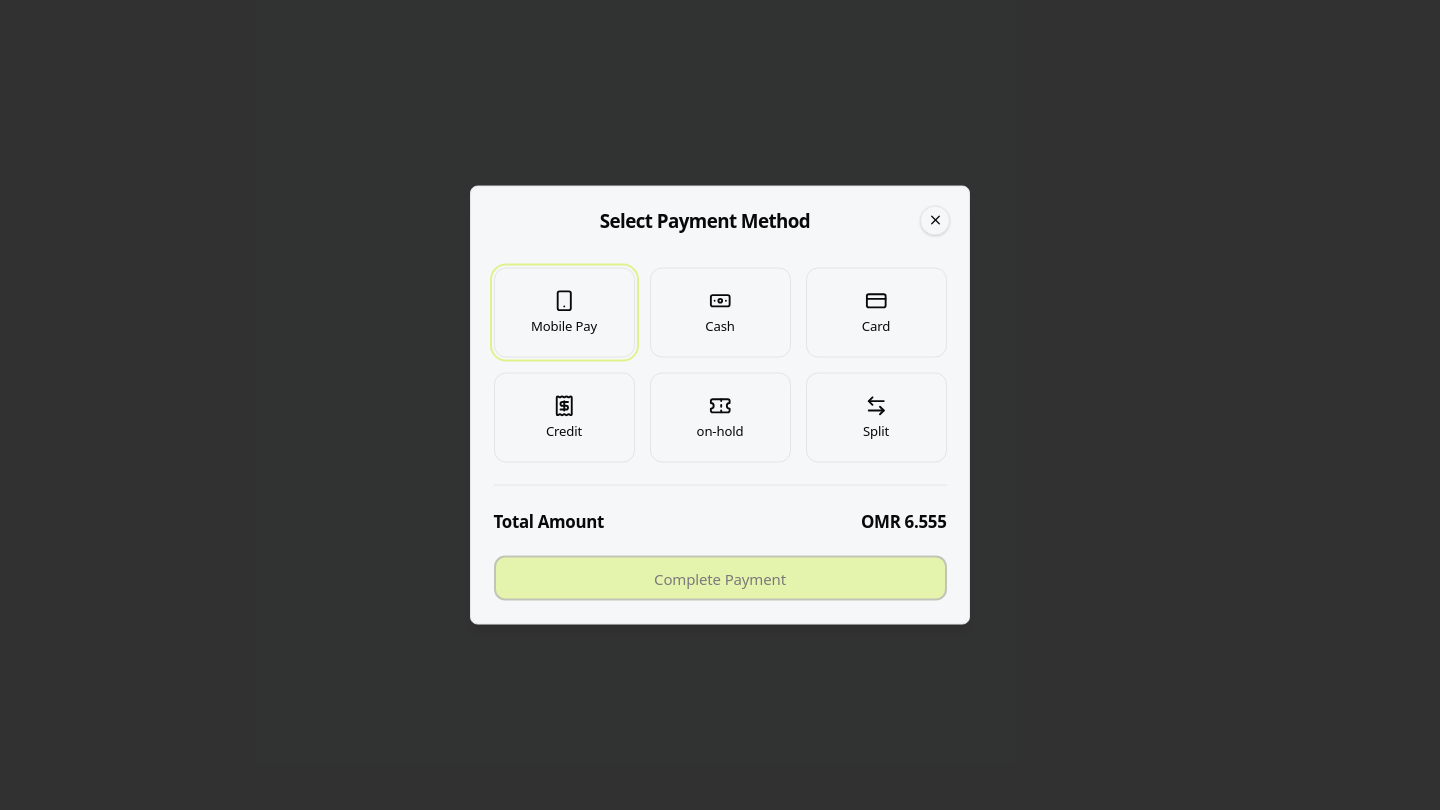
Test: CheckoutModal - cash/card split › Split evenly always sums exactly to the total (no rounding residue)
Click the button "Split": (876, 417) [806,372,946,462]
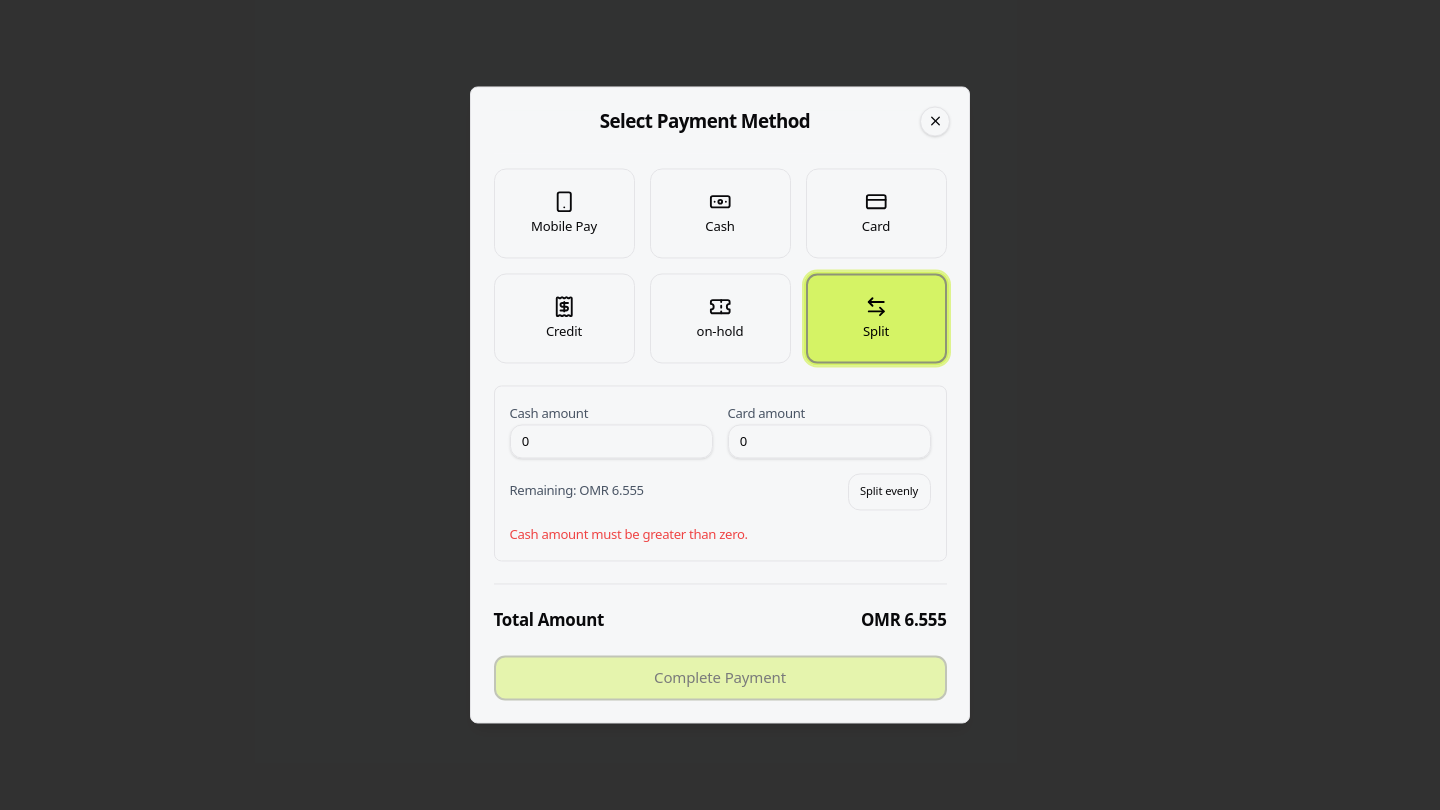
Click the button "Split evenly": (889, 492) [848,473,930,510]
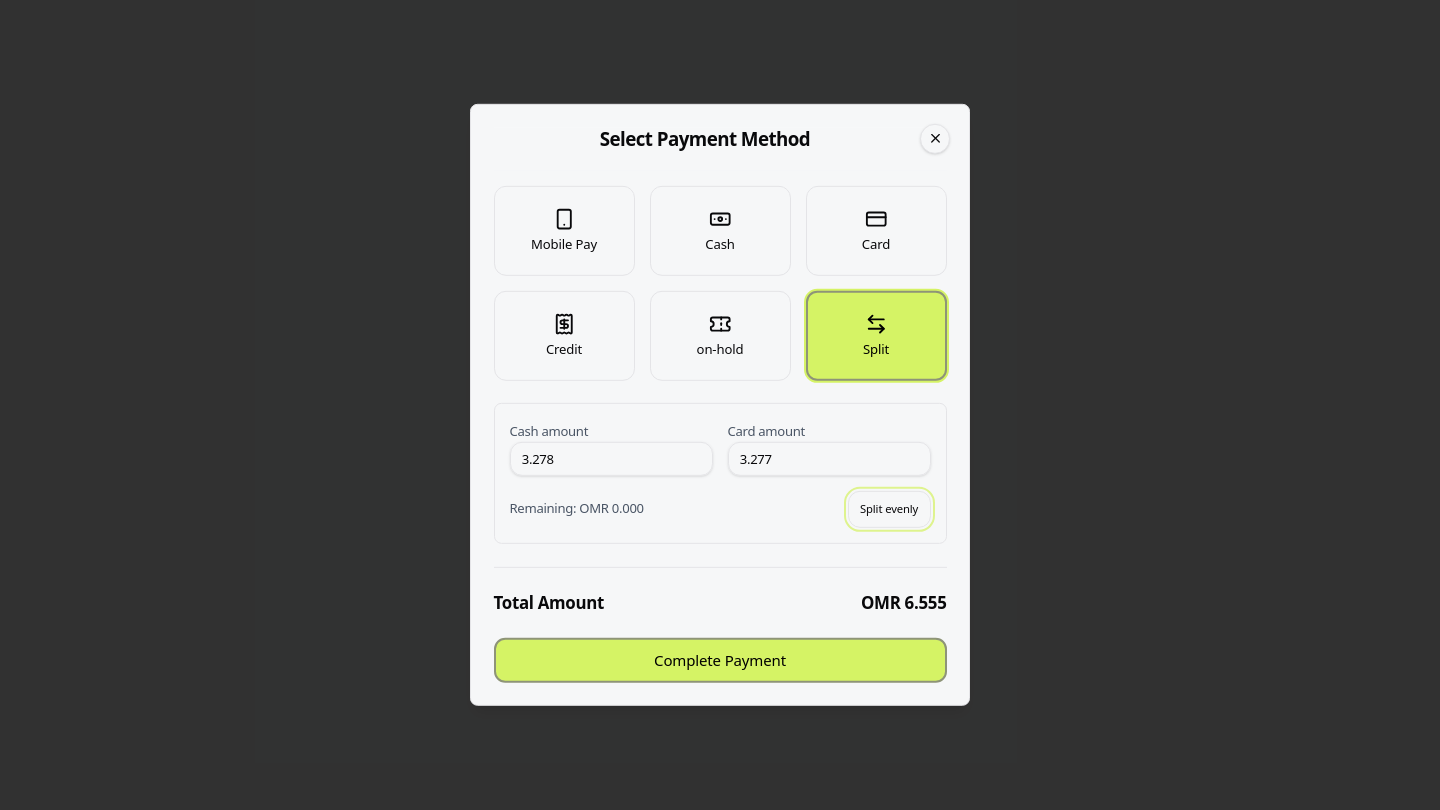
Expected: the number field labelled "Cash amount" holds "3.278", [510,442,712,475]
Expected: the number field labelled "Card amount" holds "3.277", [728,442,930,475]
Expected: the button "Complete Payment" is enabled, [494,638,946,683]
